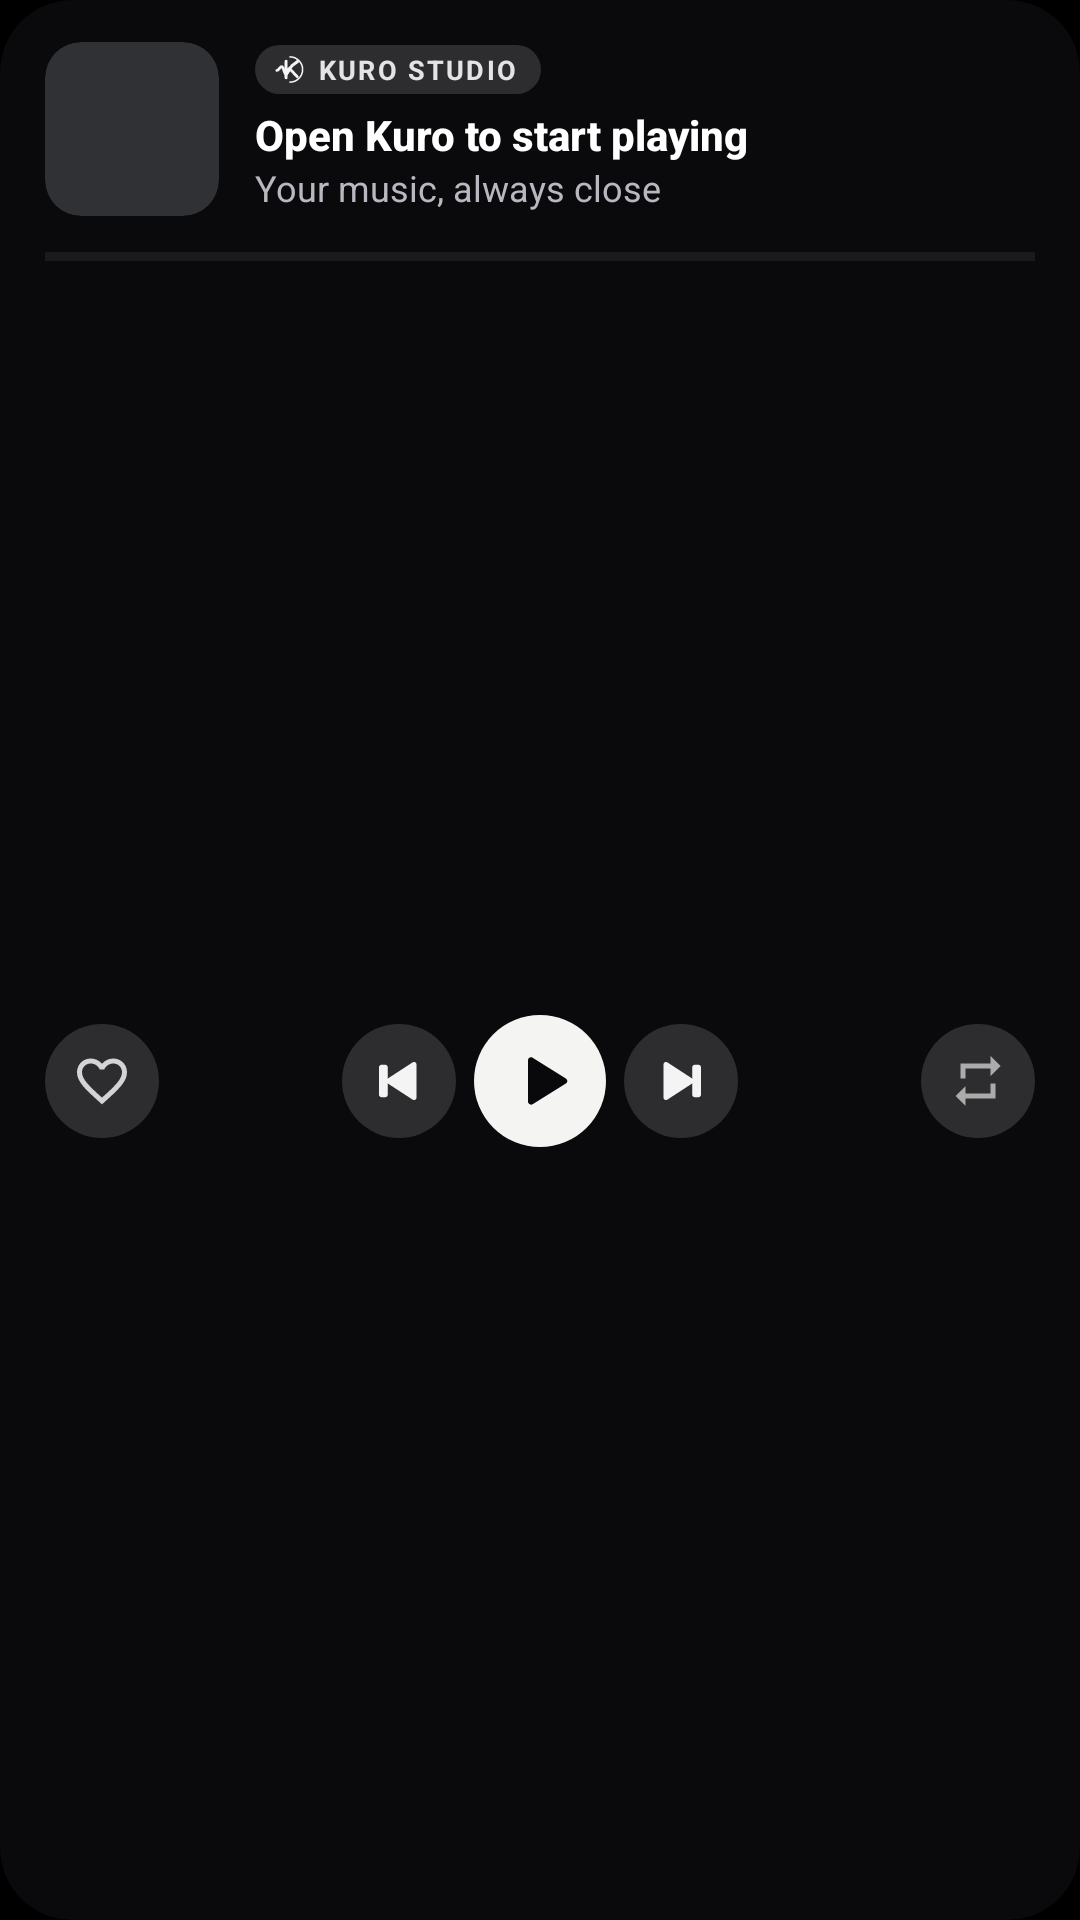

Screen size 1080*1920. Icon name, then its center in pixels as point (x, y):
Favorite track: point (102, 1081)
Next track: point (681, 1081)
Play or pause: point (540, 1081)
Previous track: point (399, 1081)
Repeat mode: point (978, 1081)
